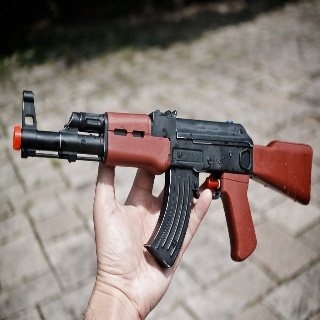rifle: (11, 86, 313, 269)
